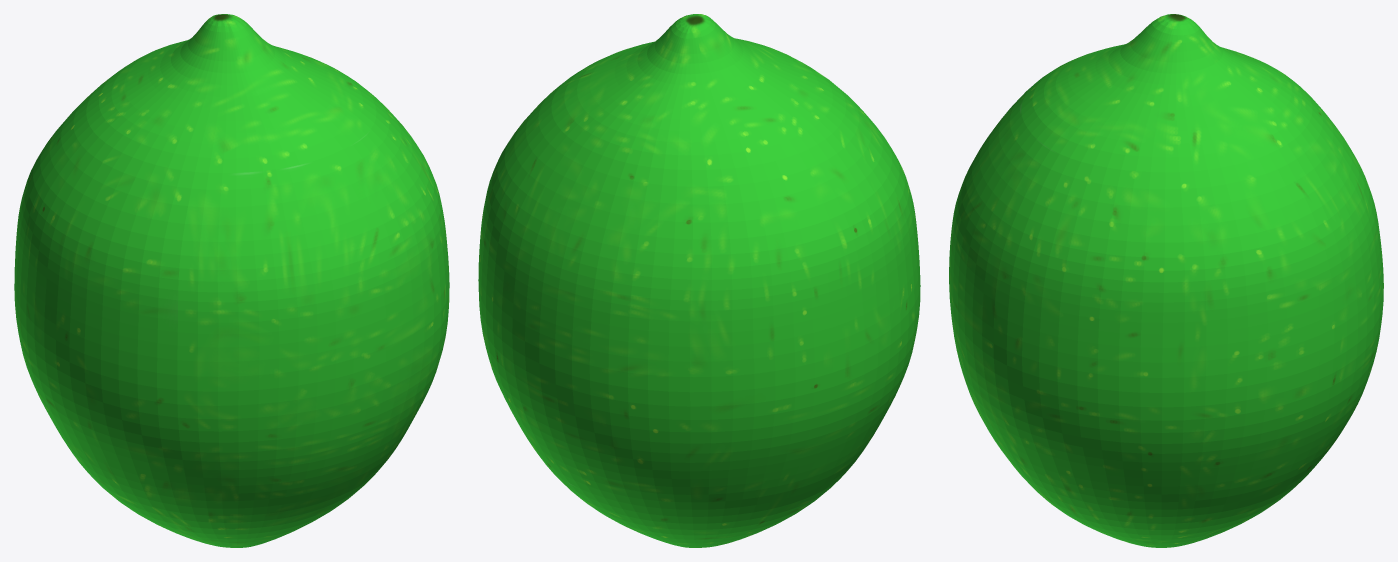
The model's file is Lime.fbx.
The picture shows the model from 3 angles, left to right: view 1: azimuth 30°, elevation 25°; view 2: azimuth 150°, elevation 25°; view 3: azimuth 270°, elevation 25°; orthographic projection.
Visible parts, largest first — view 1: Sphere; view 2: Sphere; view 3: Sphere.
Boxes of the visible parts, x1,y1,x2,y2 form: Sphere: (14, 14, 449, 547); Sphere: (478, 14, 920, 547); Sphere: (949, 14, 1383, 547).
Bounding box in the file's own units: 367 × 484 × 365.
